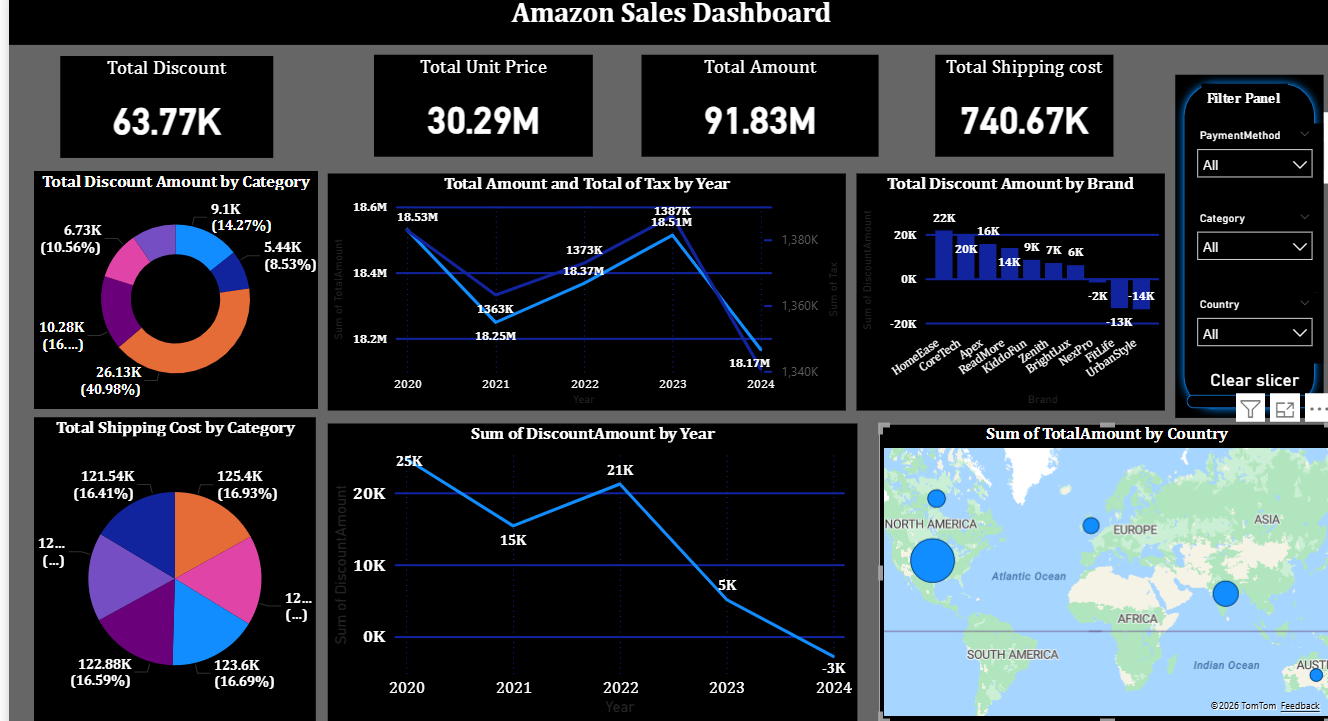

Layout of this report page (visuals, bound fields, positions):
{"tool":"powerbi","page":{"name":"Page 1","canvas":[1280,720],"ordinal":0},"visuals":[{"type":"card","title":"Total Unit Price","fields":{"Values":["Sum(Amazon (1).UnitPrice)"]},"box":[352,60.9,211.4,98.3],"z":0},{"type":"lineChart","title":"Total Amount and Total of Tax by Year","fields":{"Category":["Amazon (1).OrderDate.Variation.Date Hierarchy.Year"],"Y":["Sum(Amazon (1).TotalAmount)"],"Y2":["Sum(Amazon (1).Tax)"]},"box":[307.2,176.6,500,228.9],"z":1000},{"type":"lineChart","fields":{"Category":["Amazon (1).OrderDate.Variation.Date Hierarchy.Year","Amazon (1).OrderDate.Variation.Date Hierarchy.Quarter"],"Y":["Sum(Amazon (1).DicountAmount)"]},"box":[307.2,417.9,511.2,287.3],"z":2000},{"type":"donutChart","title":"Total Discount Amount by Category","fields":{"Category":["Amazon (1).Category"],"Y":["Sum(Amazon (1).DicountAmount)"]},"box":[23.6,174.1,273.6,228.9],"z":3000},{"type":"card","title":"Total Discount","fields":{"Values":["Sum(Amazon (1).DicountAmount)"]},"box":[49.8,62.2,205.2,98.3],"z":4000},{"type":"columnChart","title":"Total Discount Amount by Brand","fields":{"Category":["Amazon (1).Brand"],"Y":["Sum(Amazon (1).DicountAmount)"]},"box":[818.4,176.6,297.3,228.9],"z":5000},{"type":"pieChart","title":"Total Shipping Cost by Category","fields":{"Category":["Amazon (1).Category"],"Y":["Sum(Amazon (1).ShippingCost)"]},"box":[23.6,411.7,272.4,293.5],"z":6000},{"type":"textbox","box":[0,0,1278.6,52.2],"z":7000},{"type":"card","title":"Total Amount","fields":{"Values":["Sum(Amazon (1).TotalAmount)"]},"box":[610.7,60.9,228.9,98.3],"z":8000},{"type":"slicer","fields":{"Values":["Amazon (1).PaymentMethod"]},"box":[1150.5,116.9,129.4,68.4],"z":9000},{"type":"azureMap","fields":{"Category":["Amazon (1).Country"],"Size":["Sum(Amazon (1).TotalAmount)"]},"box":[839.5,417.9,440.3,287.3],"z":10000},{"type":"card","title":"Total Shipping cost","fields":{"Values":["Sum(Amazon (1).ShippingCost)"]},"box":[894.3,60.9,171.6,98.3],"z":11000},{"type":"shape","box":[1125.6,80.8,143,330.8],"z":12000},{"type":"slicer","fields":{"Values":["Amazon (1).PaymentMethod"]},"box":[1136.8,128.1,131.8,79.6],"z":13000},{"type":"slicer","fields":{"Values":["Amazon (1).Category"]},"box":[1136.8,207.7,131.8,83.3],"z":14000},{"type":"slicer","fields":{"Values":["Amazon (1).Country"]},"box":[1136.8,291,131.8,68.4],"z":15000},{"type":"shape","title":"Clear slicer","box":[1136.8,365.7,131.8,37.3],"z":16000},{"type":"textbox","box":[1150.5,89.6,83.3,38.6],"z":17000}]}

Visuals, with their boxes in screenshot pixels (x1, y1, x2, y2):
"Total Unit Price" card: rect(373, 55, 589, 156)
"Total Amount and Total of Tax by Year" lineChart: rect(328, 173, 838, 407)
lineChart - Amazon (1).OrderDate.Variation.Date Hierarchy.Year x Amazon (1).OrderDate.Variation.Date Hierarchy.Quarter: rect(328, 420, 850, 713)
"Total Discount Amount by Category" donutChart: rect(38, 171, 317, 405)
"Total Discount" card: rect(65, 57, 274, 157)
"Total Discount Amount by Brand" columnChart: rect(850, 173, 1153, 407)
"Total Shipping Cost by Category" pieChart: rect(38, 414, 316, 713)
textbox: rect(14, 0, 1320, 46)
"Total Amount" card: rect(638, 55, 871, 156)
slicer - Amazon (1).PaymentMethod: rect(1189, 112, 1321, 182)
azureMap - Amazon (1).Country x Sum(Amazon (1).TotalAmount): rect(871, 420, 1321, 713)
"Total Shipping cost" card: rect(927, 55, 1103, 156)
shape: rect(1164, 76, 1310, 414)
slicer - Amazon (1).PaymentMethod: rect(1175, 124, 1310, 205)
slicer - Amazon (1).Category: rect(1175, 205, 1310, 290)
slicer - Amazon (1).Country: rect(1175, 290, 1310, 360)
"Clear slicer" shape: rect(1175, 367, 1310, 405)
textbox: rect(1189, 85, 1274, 124)
